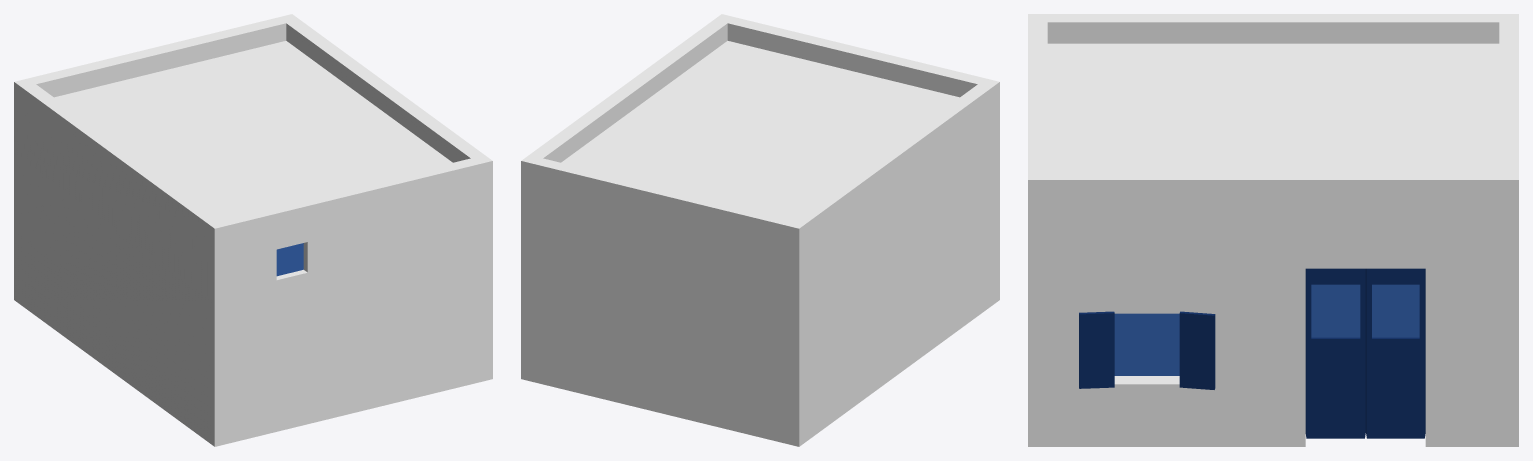
Rendered from house_02.fbx.
3 renders of one model, left to right at view 1: azimuth 30°, elevation 25°; view 2: azimuth 150°, elevation 25°; view 3: azimuth 270°, elevation 25°, orthographic. The views are drawn at different scales.
Parts seen in each view (by area): view 1: house_02; view 2: house_02; view 3: house_02.
Boxes of the visible parts, x1,y1,x2,y2 form: house_02: (14,14,492,446); house_02: (521,14,999,446); house_02: (1028,14,1518,446).
Bounding box in the file's own units: 410 × 300 × 500.
Materials: 1 (1 with a texture image).
